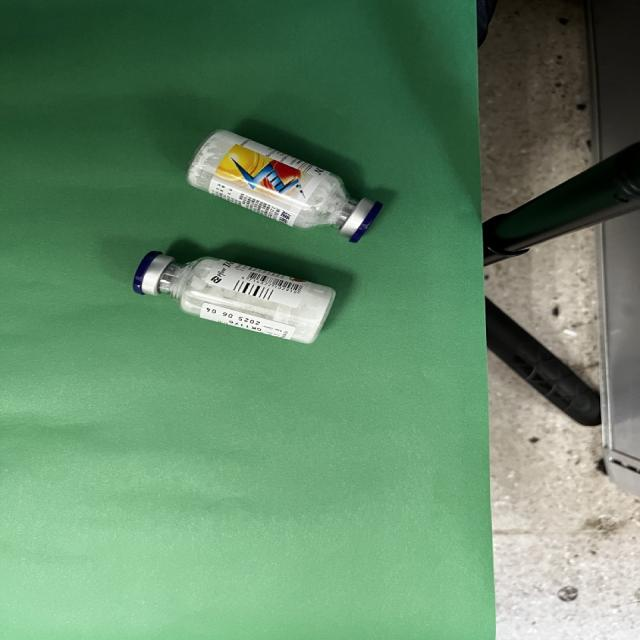Vials: (188, 130, 382, 243), (134, 252, 336, 343)
